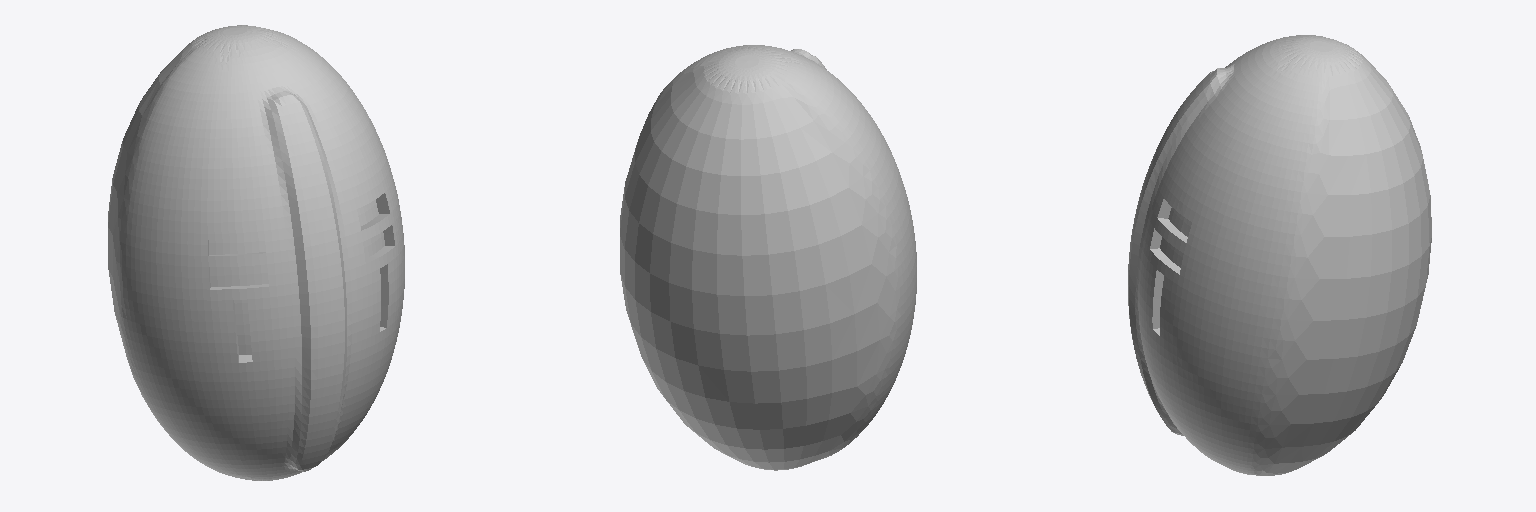
The model's file is mother_mask_only.obj.
3 views of the same model, side by side, from view 1: azimuth 30°, elevation 25°; view 2: azimuth 150°, elevation 25°; view 3: azimuth 270°, elevation 25° (orthographic).
Parts seen in each view (by area): view 1: Sphere_Sphere.001; view 2: Sphere_Sphere.001; view 3: Sphere_Sphere.001.
Boxes of the visible parts, box(x1,y1,x2,y2) form: Sphere_Sphere.001: box(108, 25, 404, 480); Sphere_Sphere.001: box(620, 45, 916, 470); Sphere_Sphere.001: box(1128, 35, 1431, 475).
Size of the model in its own units: 0.6483 by 0.9886 by 0.6461.